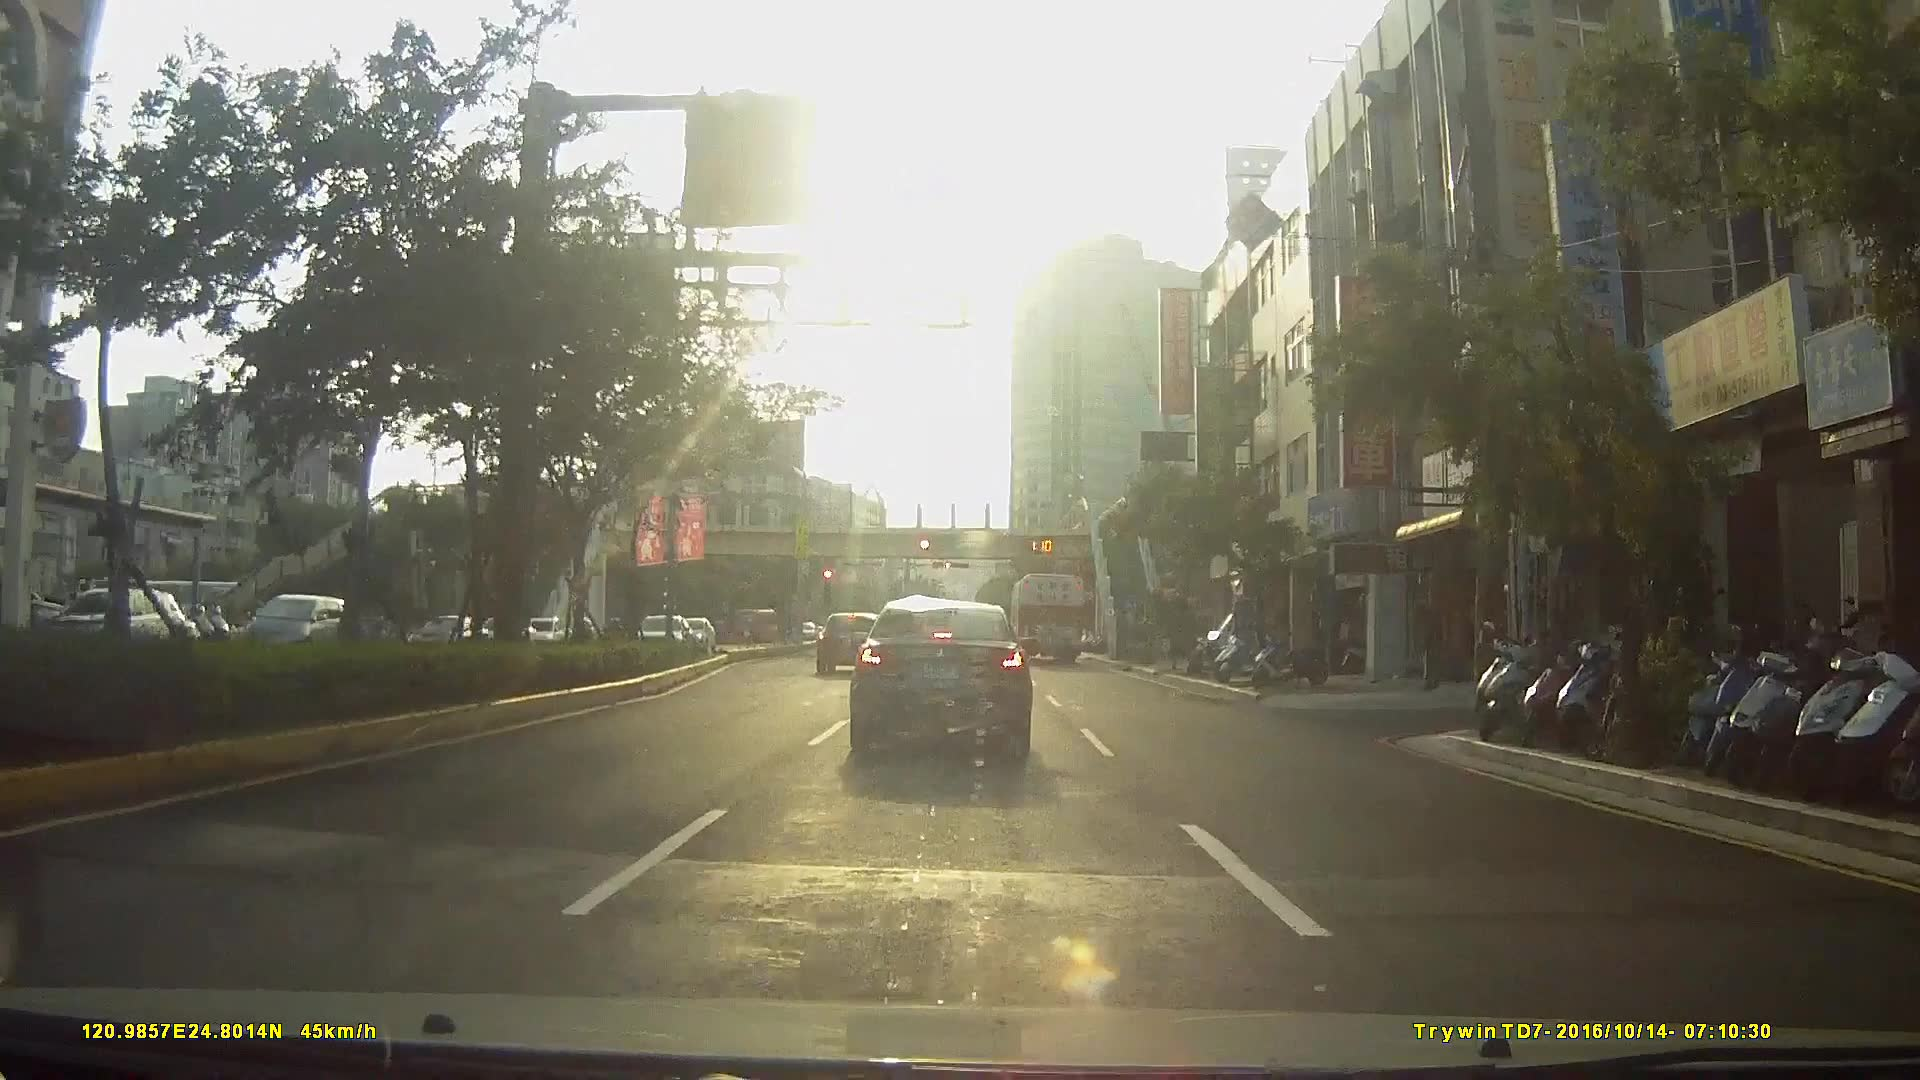vehicle: (847, 596, 1034, 760), (109, 527, 212, 676), (1006, 568, 1087, 666), (235, 593, 352, 658), (815, 609, 884, 678)
